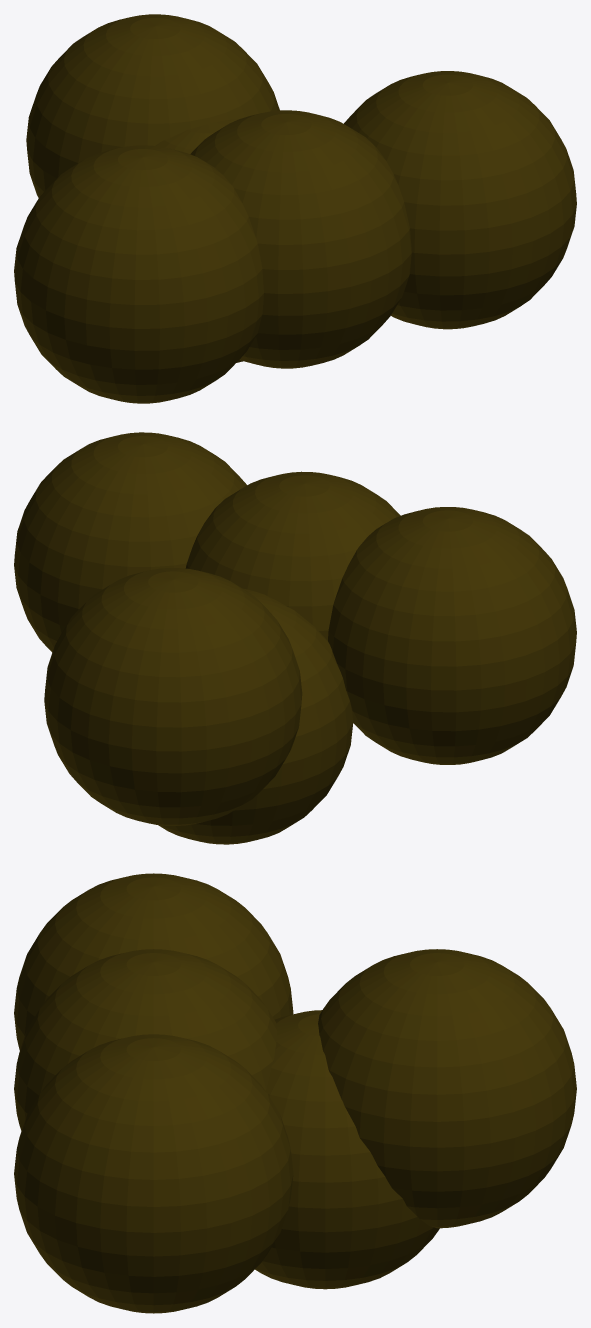
File: Dust.fbx
3 views of the same model, one above another, from view 1: azimuth 30°, elevation 25°; view 2: azimuth 150°, elevation 25°; view 3: azimuth 270°, elevation 25° (orthographic). The views are drawn at different scales.
Parts seen in each view (by area): view 1: Dist; view 2: Dist; view 3: Dist.
Boxes of the visible parts, x1,y1,x2,y2 form: Dist: [14, 14, 576, 403]; Dist: [14, 432, 576, 844]; Dist: [14, 873, 576, 1313].
Bounding box in the file's own units: 102 × 53.82 × 87.41.
